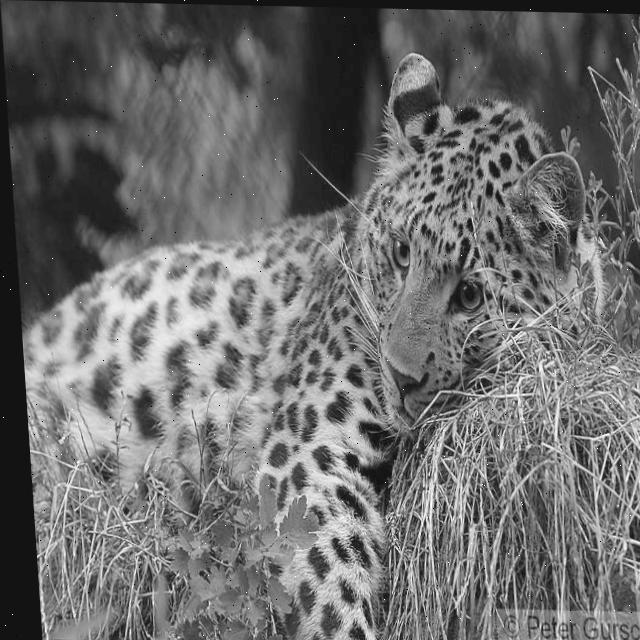Leopard: (3, 40, 631, 640)
